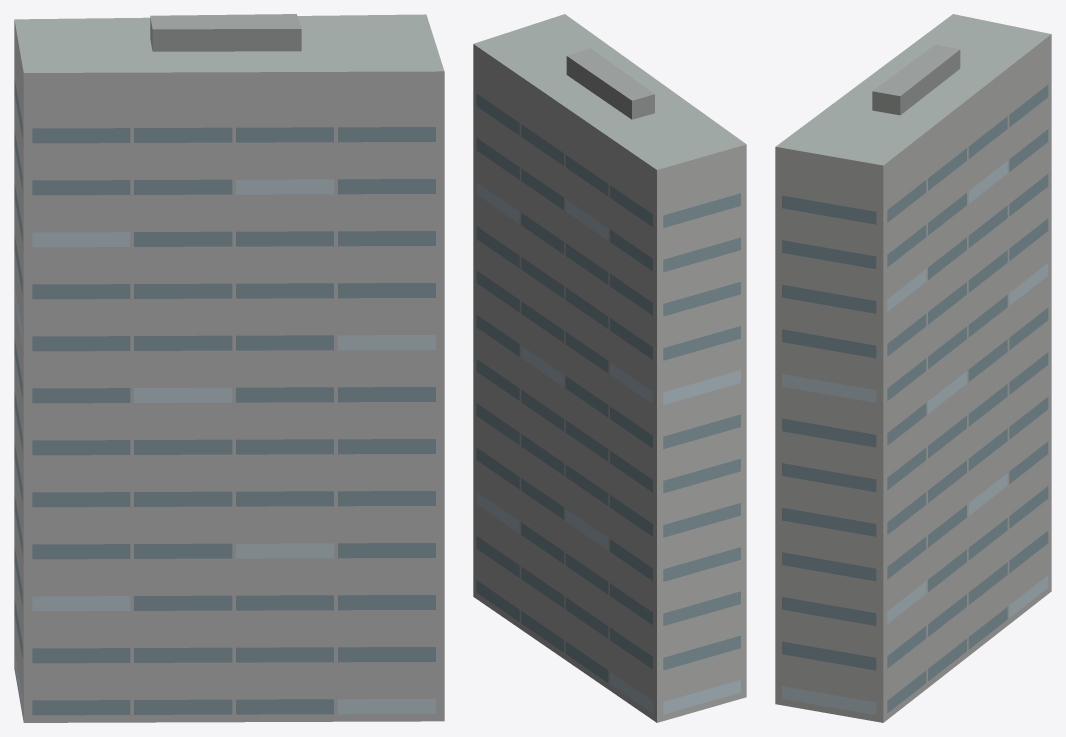
File: fallback-gwanak-dream-town-140.glb
3 renders of one model, left to right at view 1: azimuth 30°, elevation 25°; view 2: azimuth 150°, elevation 25°; view 3: azimuth 270°, elevation 25°, orthographic. The views are drawn at different scales.
Parts seen in each view (by area): view 1: fallback-gwanak-dream-town-140; view 2: fallback-gwanak-dream-town-140; view 3: fallback-gwanak-dream-town-140.
Boxes of the visible parts, <box> form: fallback-gwanak-dream-town-140: <box>14,14,444,722</box>; fallback-gwanak-dream-town-140: <box>473,14,746,722</box>; fallback-gwanak-dream-town-140: <box>775,14,1051,722</box>.
Size of the model in its own units: 40.58 by 72 by 31.24.
